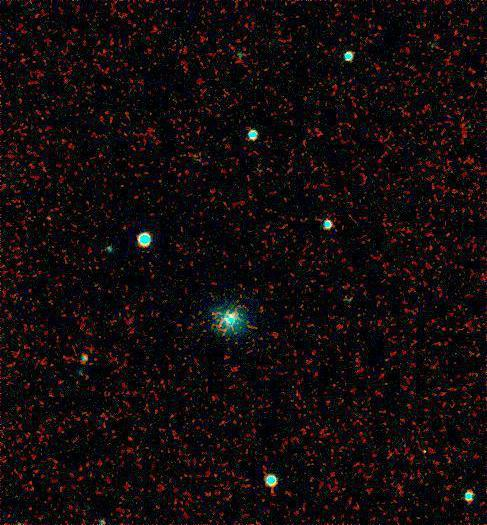star: (34, 201, 64, 231)
